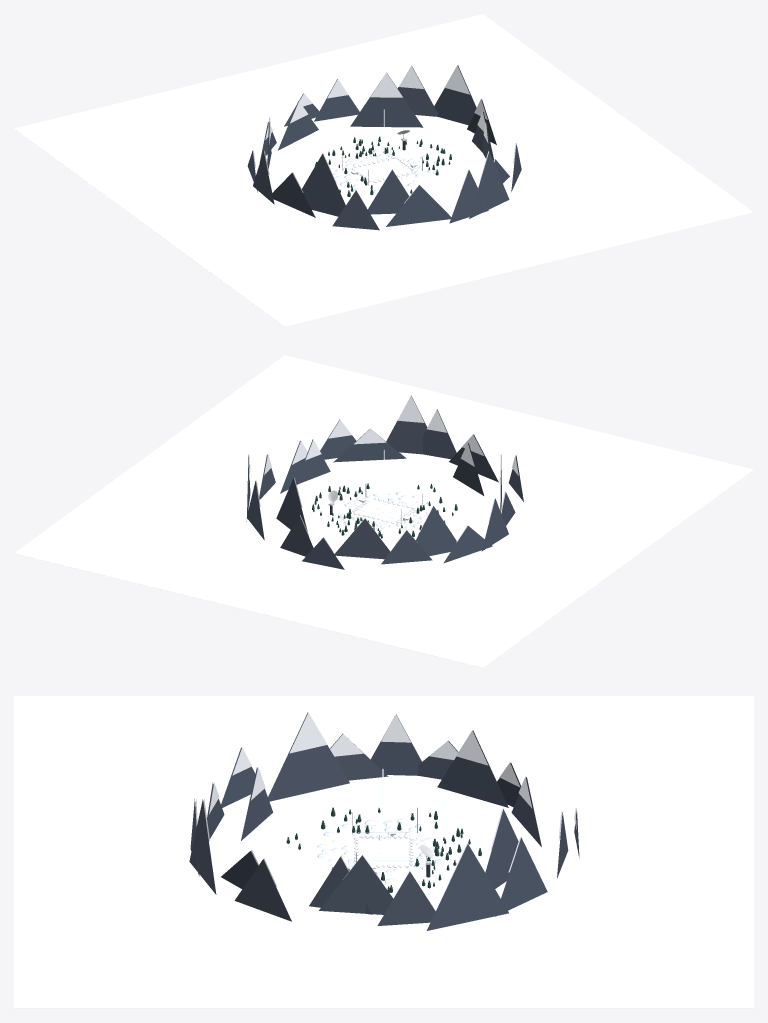
The model's file is aster_overlay.glb.
3 renders of one model, top to bottom at view 1: azimuth 30°, elevation 25°; view 2: azimuth 150°, elevation 25°; view 3: azimuth 270°, elevation 25°, orthographic. The views are drawn at different scales.
Parts seen in each view (by area): view 1: DETAIL_overlay; view 2: DETAIL_overlay; view 3: DETAIL_overlay.
Part boxes in pixels (box(x1,y1,x2,y2)): DETAIL_overlay: box(14, 14, 753, 326); DETAIL_overlay: box(14, 355, 753, 667); DETAIL_overlay: box(14, 696, 753, 1008).
Size of the model in its own units: 800 by 102 by 800.
